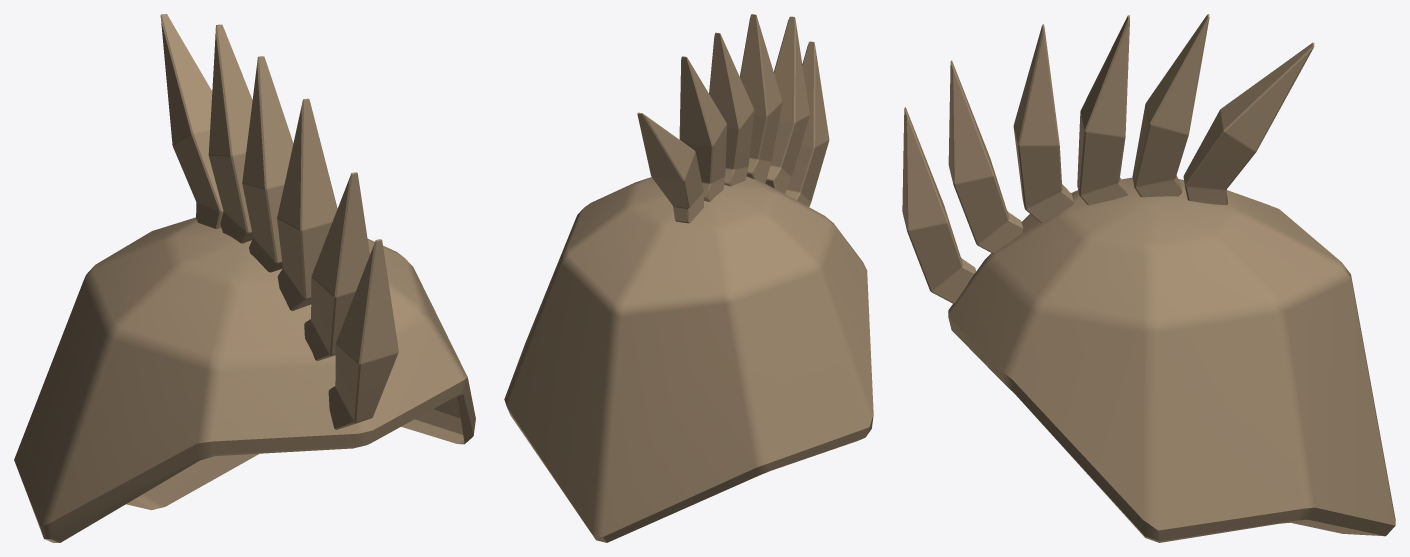
Rendered from cabelloPunk.fbx.
3 renders of one model, left to right at view 1: azimuth 30°, elevation 25°; view 2: azimuth 150°, elevation 25°; view 3: azimuth 270°, elevation 25°, orthographic. The views are drawn at different scales.
Visible parts, largest first — view 1: Cabello2; view 2: Cabello2; view 3: Cabello2.
Part boxes in pixels (<box>): Cabello2: <box>14,14,475,542</box>; Cabello2: <box>504,14,873,542</box>; Cabello2: <box>902,14,1395,542</box>.
Bounding box in the file's own units: 69.27 × 83.11 × 72.39.
